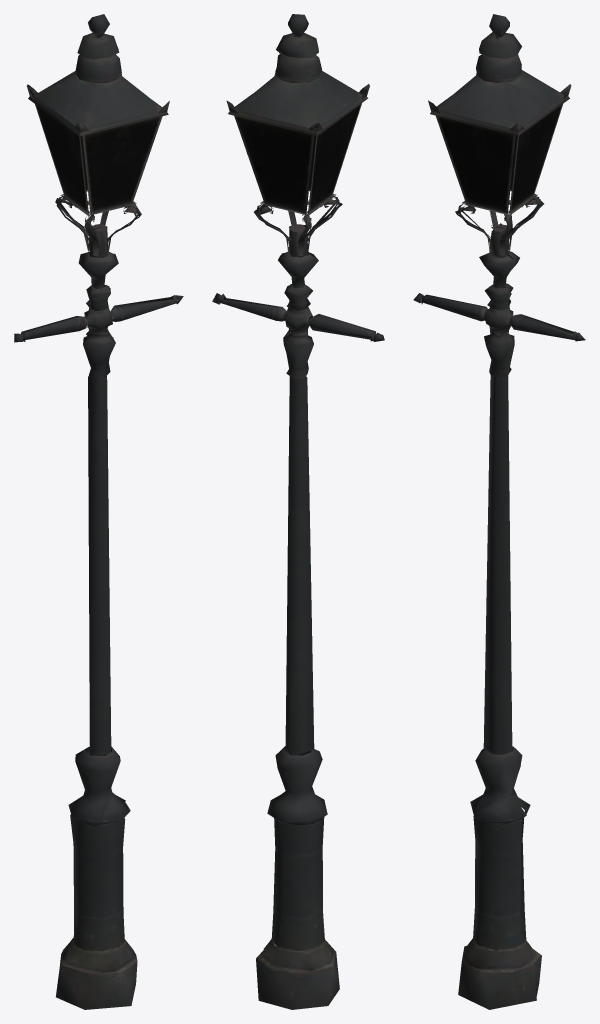
The model's file is street_lamp_lo.glb.
The picture shows the model from 3 angles, left to right: view 1: azimuth 30°, elevation 25°; view 2: azimuth 150°, elevation 25°; view 3: azimuth 330°, elevation 25°; orthographic projection.
Visible parts, largest first — view 1: street_lamp_01; view 2: street_lamp_01; view 3: street_lamp_01.
Part boxes in pixels (x1,y1,x2,y2): street_lamp_01: (14, 14, 183, 1009); street_lamp_01: (212, 14, 384, 1009); street_lamp_01: (413, 14, 585, 1009).
Bounding box in the file's own units: 0.704 × 3.87 × 0.3845.
3 materials, 3 textured.
